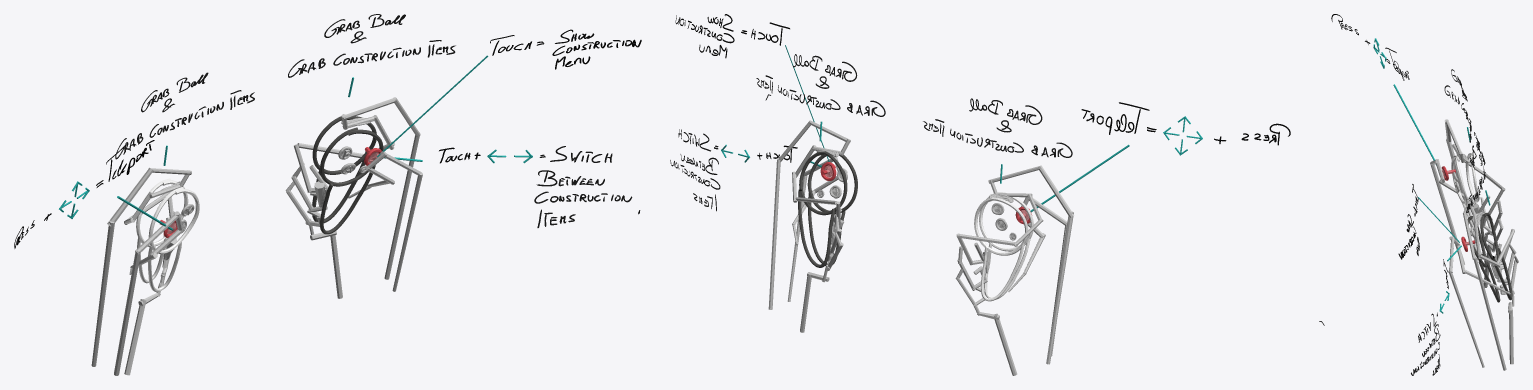
The model's file is Hands.fbx.
3 views of the same model, side by side, from view 1: azimuth 30°, elevation 25°; view 2: azimuth 150°, elevation 25°; view 3: azimuth 270°, elevation 25° (orthographic). The views are drawn at different scales.
Visible parts, largest first — view 1: draw-label, hand, Hand, roundhardware (×2), handle1 (×2), NewLayer0; view 2: draw-label, Hand, hand, roundhardware (×2), handle1 (×2), NewLayer0; view 3: hand, draw-label, Hand, roundhardware (×2), handle1 (×2), NewLayer0.
Boxes of the visible parts, left/top/right/bottom form: draw-label: left=14, top=14, right=641, bottom=248; hand: left=285, top=97, right=422, bottom=298; Hand: left=91, top=167, right=191, bottom=375; roundhardware (×2): left=136, top=116, right=383, bottom=254; handle1 (×2): left=137, top=151, right=375, bottom=292; NewLayer0: left=115, top=72, right=254, bottom=165; draw-label: left=670, top=14, right=1290, bottom=212; Hand: left=955, top=165, right=1074, bottom=375; hand: left=768, top=120, right=850, bottom=332; roundhardware (×2): left=799, top=151, right=1033, bottom=255; handle1 (×2): left=798, top=189, right=1030, bottom=301; NewLayer0: left=923, top=98, right=1072, bottom=183; hand: left=1448, top=200, right=1518, bottom=370; draw-label: left=1319, top=14, right=1490, bottom=375; Hand: left=1430, top=119, right=1505, bottom=287; roundhardware (×2): left=1451, top=153, right=1499, bottom=267; handle1 (×2): left=1459, top=181, right=1512, bottom=302; NewLayer0: left=1444, top=69, right=1471, bottom=142.
Bounding box in the file's own units: 0.6612 × 0.2919 × 0.2319.
